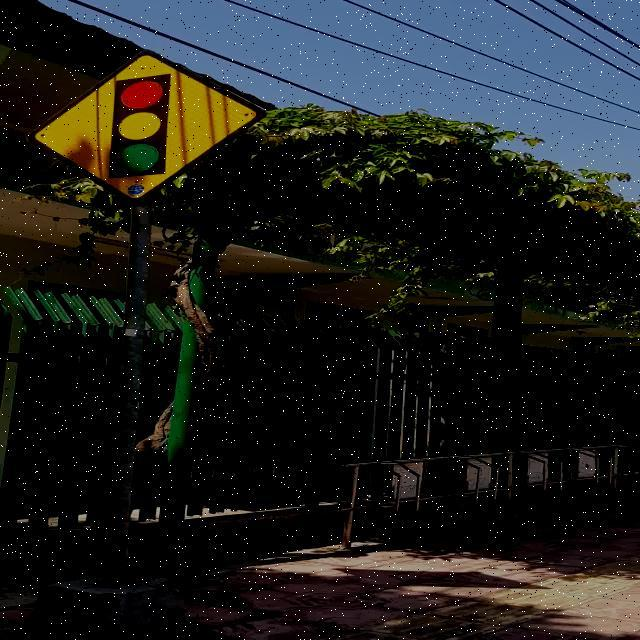Lampu Lalu Lintas: (27, 48, 267, 205)
